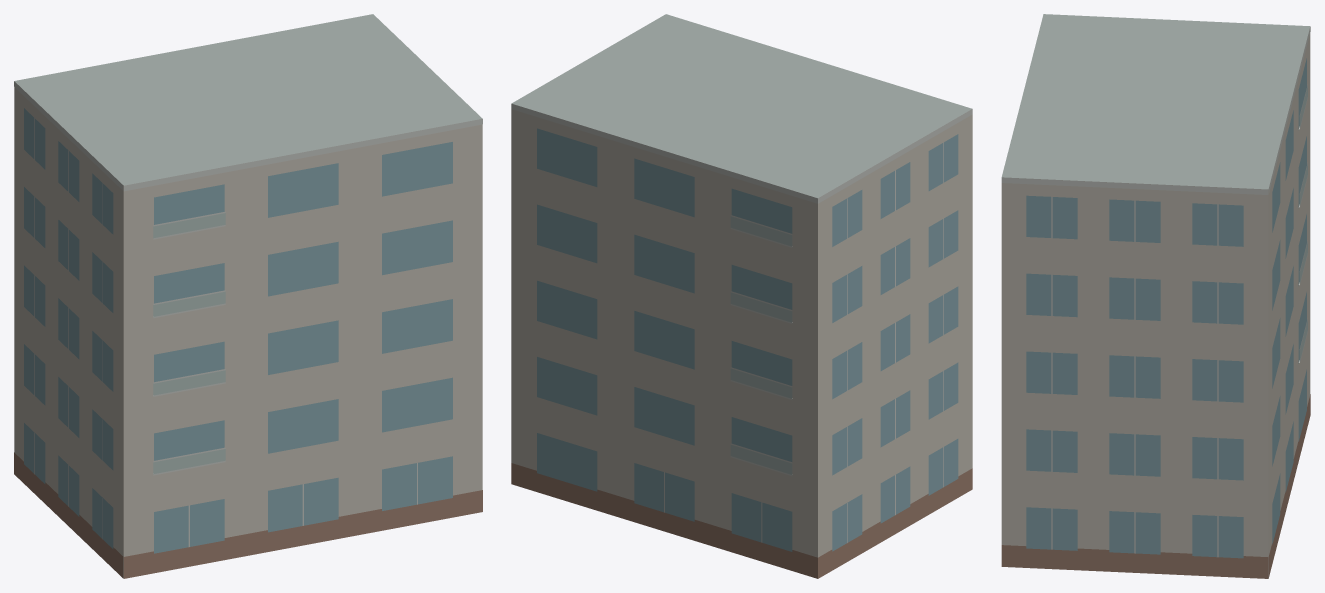
Rendered from survey-upis-32545093.glb.
3 views of the same model, side by side, from view 1: azimuth 30°, elevation 25°; view 2: azimuth 150°, elevation 25°; view 3: azimuth 270°, elevation 25° (orthographic). The views are drawn at different scales.
Visible parts, largest first — view 1: survey-upis-32545093.tmp; view 2: survey-upis-32545093.tmp; view 3: survey-upis-32545093.tmp.
Part boxes in pixels (<box>): survey-upis-32545093.tmp: <box>14,14,482,578</box>; survey-upis-32545093.tmp: <box>511,14,972,578</box>; survey-upis-32545093.tmp: <box>1001,14,1310,578</box>.
Size of the model in its own units: 16.19 by 16.75 by 12.05.
